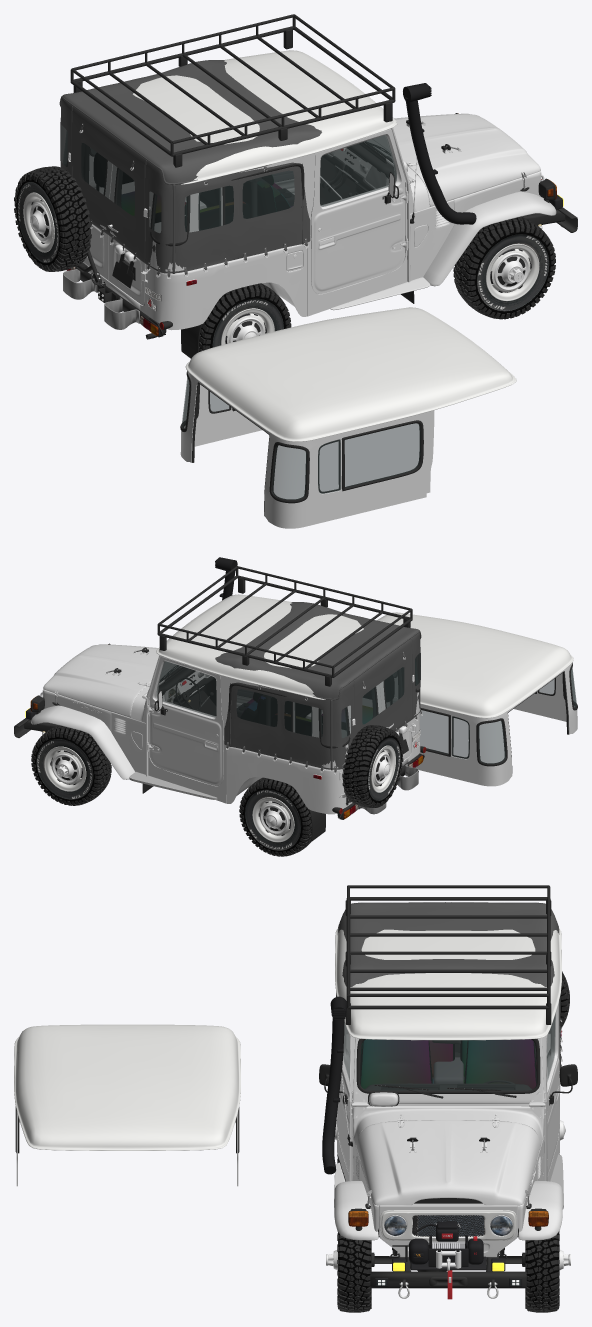
3 views of the same model, one above another, from view 1: azimuth 30°, elevation 25°; view 2: azimuth 150°, elevation 25°; view 3: azimuth 270°, elevation 25° (orthographic). The views are drawn at different scales.
Visible parts, largest first — view 1: Hard top au sol, Bache, Body, Top, Front Doors, Hood, Rear Doors, Tyre base.001, Tyre base.006, Tyre base.008, Tyre base.002, Rim.004 (+15 smaller); view 2: Hard top au sol, Bache, Body, Top, Front Doors, Hood, Tyre base.001, Tyre base, Tyre base.007, Rear Doors, Tyre base.004, Tyre base.002 (+14 smaller); view 3: Hard top au sol, Body, Top, Hood, Bache, Front Seats, Front Doors, Chassis, Tyre base.004, Tyre base.008, Snorkel tube, Front Grill (+15 smaller).
Part boxes in pixels (left/top/right/bottom): Hard top au sol: left=180, top=307, right=516, bottom=528; Bache: left=59, top=60, right=321, bottom=279; Body: left=84, top=113, right=556, bottom=330; Top: left=63, top=50, right=397, bottom=271; Front Doors: left=272, top=129, right=408, bottom=293; Hood: left=373, top=113, right=540, bottom=206; Rear Doors: left=68, top=143, right=150, bottom=305; Tyre base.001: left=14, top=166, right=91, bottom=271; Tyre base.006: left=456, top=218, right=553, bottom=316; Tyre base.008: left=453, top=216, right=555, bottom=319; Tyre base.002: left=16, top=168, right=89, bottom=269; Rim.004: left=486, top=243, right=539, bottom=301; Hard top au sol: left=377, top=612, right=577, bottom=786; Bache: left=215, top=602, right=422, bottom=774; Body: left=30, top=643, right=426, bottom=814; Top: left=156, top=594, right=420, bottom=768; Front Doors: left=147, top=656, right=253, bottom=785; Hood: left=43, top=644, right=174, bottom=717; Tyre base.001: left=342, top=725, right=403, bottom=807; Tyre base: left=33, top=726, right=109, bottom=803; Tyre base.007: left=241, top=778, right=311, bottom=854; Rear Doors: left=339, top=667, right=416, bottom=805; Tyre base.004: left=31, top=725, right=111, bottom=805; Tyre base.002: left=344, top=726, right=401, bottom=805; Hard top au sol: left=14, top=1024, right=240, bottom=1186; Body: left=334, top=1029, right=563, bottom=1257; Top: left=335, top=928, right=561, bottom=1046; Hood: left=356, top=1120, right=540, bottom=1205; Bache: left=336, top=902, right=562, bottom=1070; Front Seats: left=360, top=1039, right=536, bottom=1089; Front Doors: left=319, top=1002, right=577, bottom=1175; Chassis: left=370, top=1216, right=526, bottom=1288; Tyre base.004: left=525, top=1231, right=559, bottom=1312; Tyre base.008: left=337, top=1231, right=371, bottom=1312; Snorkel tube: left=322, top=1019, right=344, bottom=1174; Front Grill: left=412, top=1215, right=484, bottom=1248.
Bounding box in the file's own units: 4.13 × 2.13 × 4.21.
47 materials, 4 textured.
